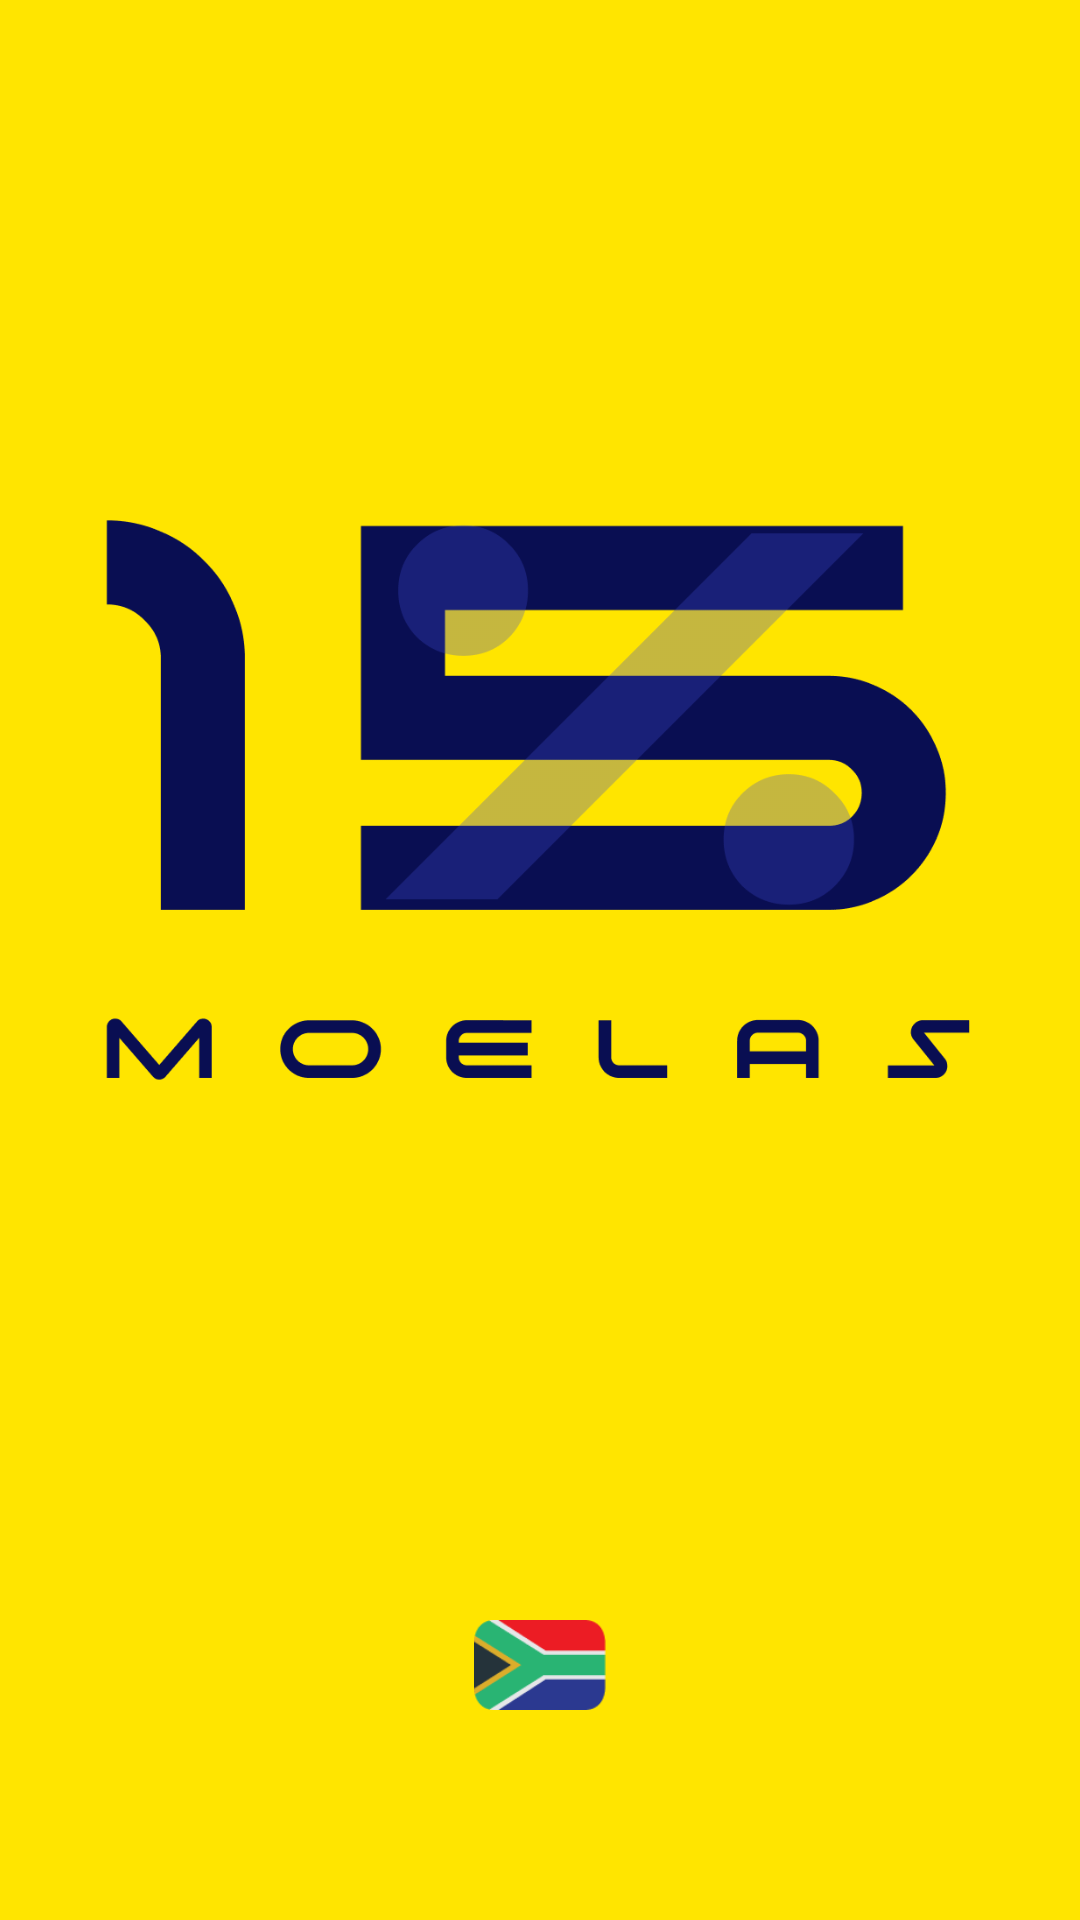

Screen size 1080 × 1920. Icon name, then its box in pixels as {"left": x1, "top": y1, "right": x2, "bottom": y2}:
flag: {"left": 474, "top": 1620, "right": 606, "bottom": 1710}
